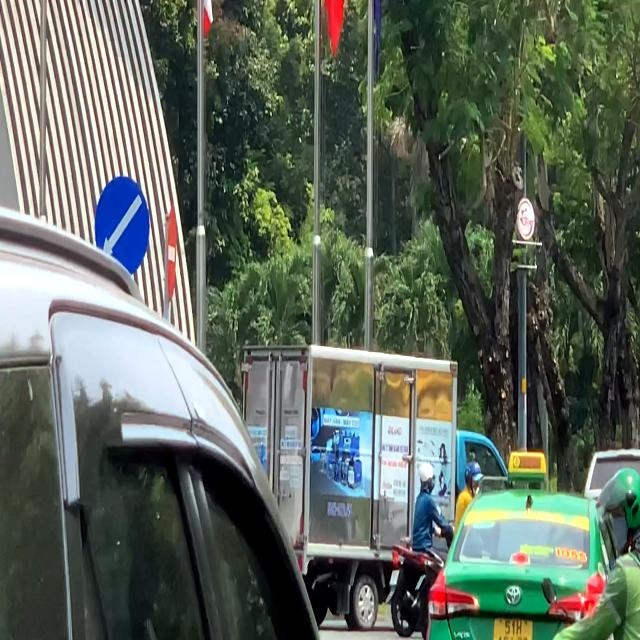bien_hieu_lenh: (95, 176, 149, 279)
